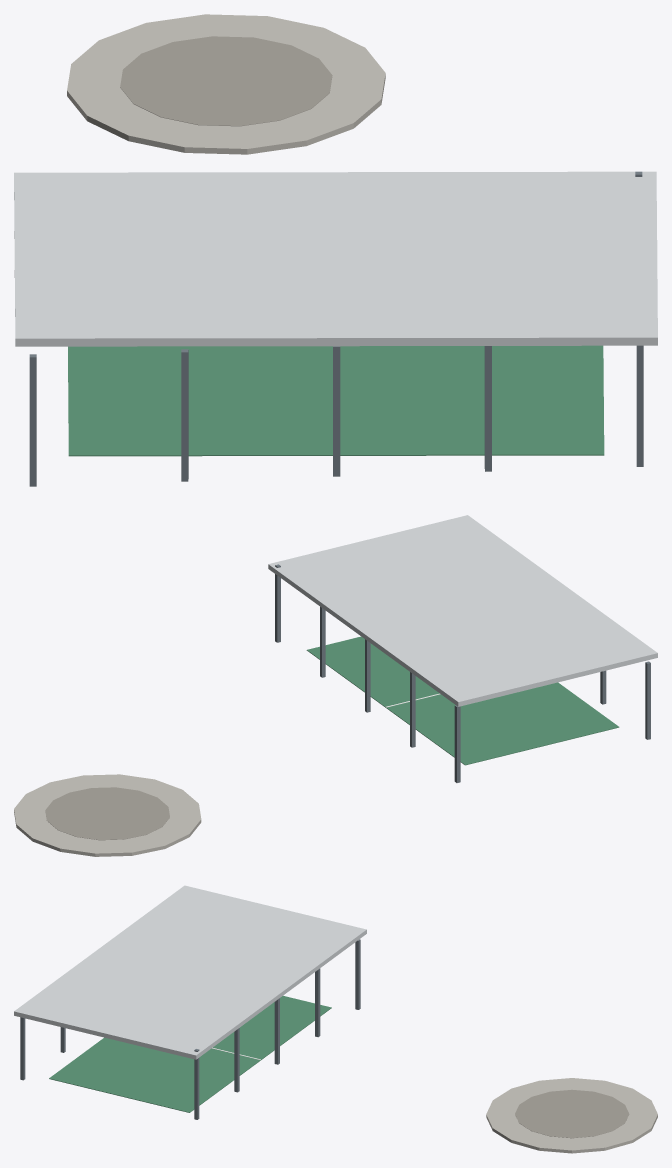
The model's file is pc_park.glb.
The picture shows the model from 3 angles, top to bottom: view 1: azimuth 30°, elevation 25°; view 2: azimuth 150°, elevation 25°; view 3: azimuth 270°, elevation 25°; orthographic projection. The views are drawn at different scales.
Visible parts, largest first — view 1: pc_park_lod0; view 2: pc_park_lod0; view 3: pc_park_lod0.
Boxes of the visible parts, <box> form: pc_park_lod0: <box>14,14,657,486</box>; pc_park_lod0: <box>14,515,657,856</box>; pc_park_lod0: <box>14,885,657,1153</box>.
Size of what is drawn, in the model's own units: 46.08 by 9.65 by 67.49.
